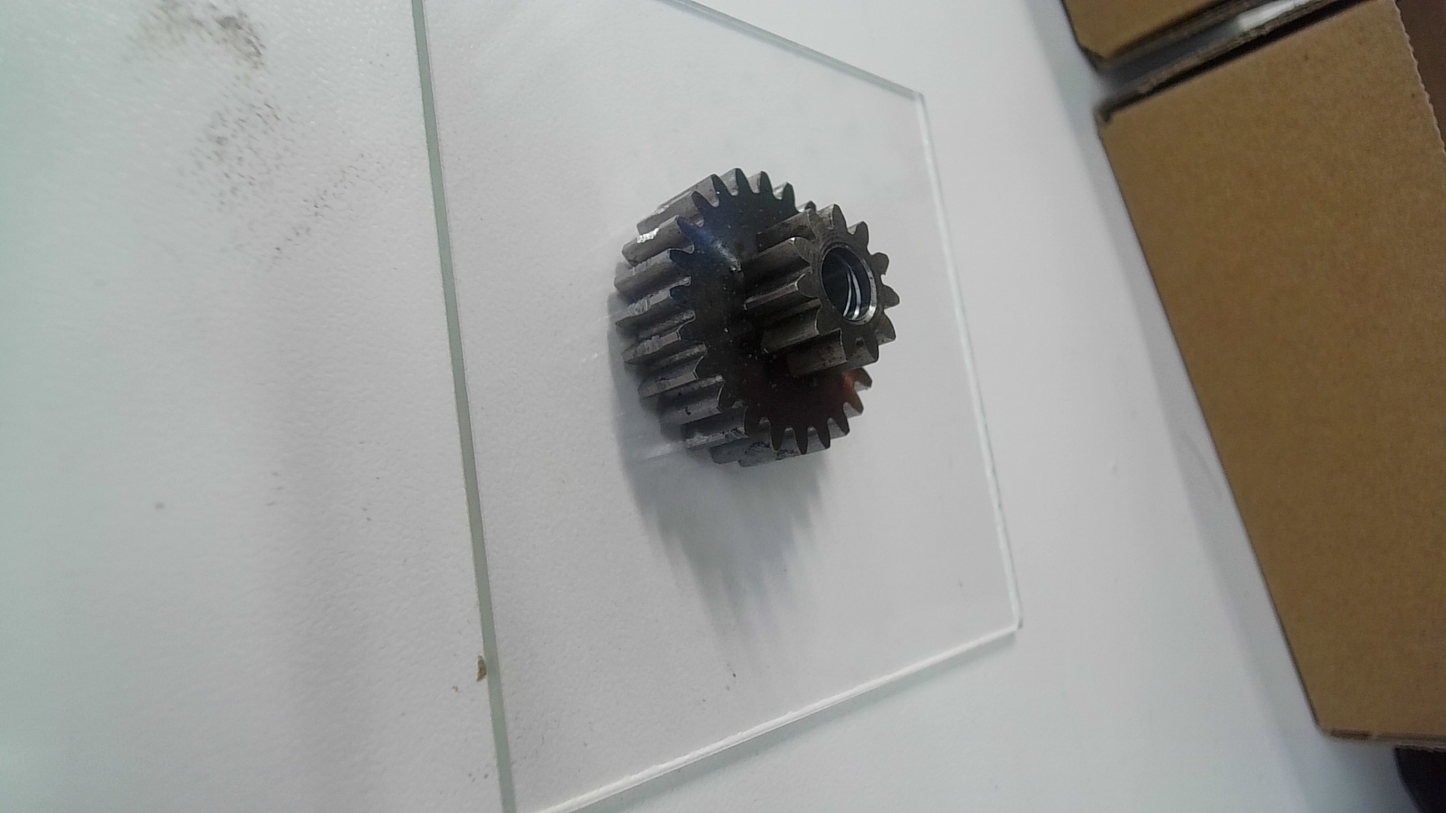gear: (612, 159, 902, 471)
